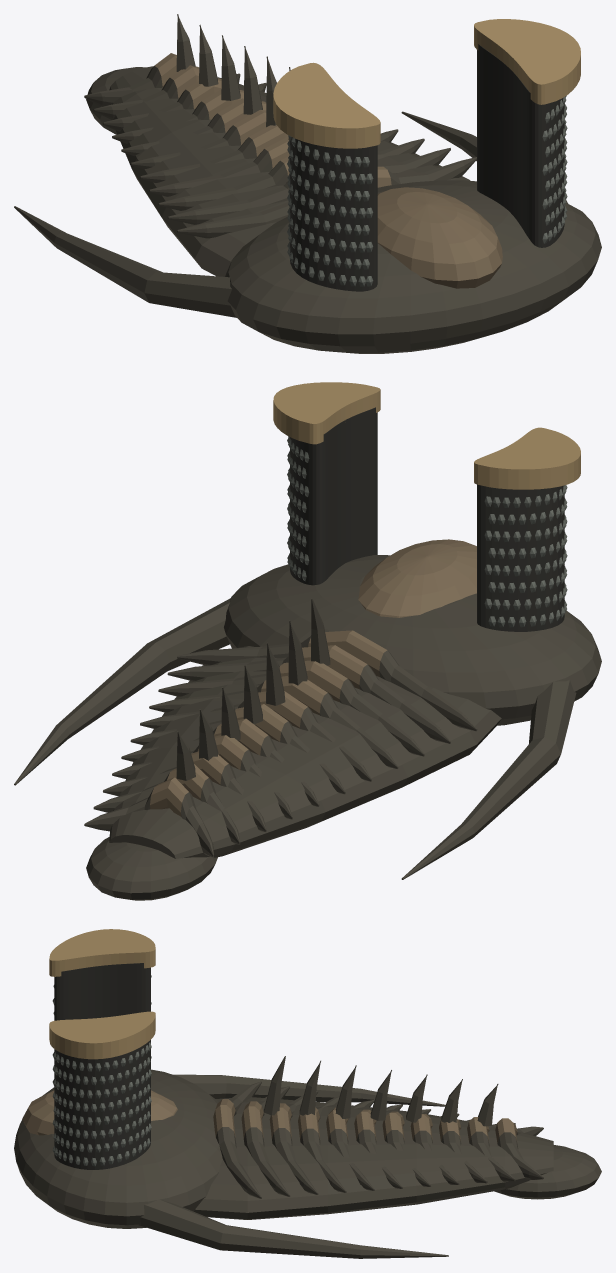
The model's file is erbenochile.glb.
3 views of the same model, one above another, from view 1: azimuth 30°, elevation 25°; view 2: azimuth 150°, elevation 25°; view 3: azimuth 270°, elevation 25° (orthographic). The views are drawn at different scales.
Visible parts, largest first — view 1: vaulted-cephalon, eleven-editable-rib-sections, continuous-vaulted-thoracic-shell, right-elongate-curved-visual-wall, central-glabella, left-elongate-curved-visual-wall, non-counted-illustrative-lens-field, left-projecting-palpebral-visor, swept-genal-spine--1, right-projecting-palpebral-visor, swept-genal-spine-1, primary-visible-axial-spine-03 (+5 smaller); view 2: continuous-vaulted-thoracic-shell, eleven-editable-rib-sections, vaulted-cephalon, right-elongate-curved-visual-wall, left-elongate-curved-visual-wall, central-glabella, swept-genal-spine-1, swept-genal-spine--1, non-counted-illustrative-lens-field, small-tapering-pygidium, left-projecting-palpebral-visor, right-projecting-palpebral-visor (+4 smaller); view 3: continuous-vaulted-thoracic-shell, vaulted-cephalon, eleven-editable-rib-sections, right-elongate-curved-visual-wall, swept-genal-spine-1, left-elongate-curved-visual-wall, non-counted-illustrative-lens-field, right-projecting-palpebral-visor, left-projecting-palpebral-visor, small-tapering-pygidium, swept-genal-spine--1, central-glabella (+7 smaller).
Part boxes in pixels (<box>): vaulted-cephalon: <box>225,180,601,353</box>; eleven-editable-rib-sections: <box>84,53,476,238</box>; continuous-vaulted-thoracic-shell: <box>109,66,470,276</box>; right-elongate-curved-visual-wall: <box>477,44,564,247</box>; central-glabella: <box>377,187,502,288</box>; left-elongate-curved-visual-wall: <box>290,137,377,291</box>; non-counted-illustrative-lens-field: <box>287,95,567,286</box>; left-projecting-palpebral-visor: <box>273,62,380,148</box>; swept-genal-spine--1: <box>14,206,236,317</box>; right-projecting-palpebral-visor: <box>474,19,580,104</box>; swept-genal-spine-1: <box>401,111,567,203</box>; primary-visible-axial-spine-03: <box>243,46,262,114</box>; continuous-vaulted-thoracic-shell: <box>109,646,501,858</box>; eleven-editable-rib-sections: <box>84,630,477,857</box>; vaulted-cephalon: <box>224,555,601,725</box>; right-elongate-curved-visual-wall: <box>290,407,377,585</box>; left-elongate-curved-visual-wall: <box>477,484,564,631</box>; central-glabella: <box>358,539,476,617</box>; swept-genal-spine-1: <box>14,598,230,785</box>; swept-genal-spine--1: <box>401,680,576,879</box>; non-counted-illustrative-lens-field: <box>287,436,567,627</box>; small-tapering-pygidium: <box>86,837,217,900</box>; left-projecting-palpebral-visor: <box>474,427,580,489</box>; right-projecting-palpebral-visor: <box>273,382,380,444</box>; continuous-vaulted-thoracic-shell: <box>193,1097,553,1219</box>; vaulted-cephalon: <box>14,1069,222,1228</box>; eleven-editable-rib-sections: <box>213,1081,543,1198</box>; right-elongate-curved-visual-wall: <box>54,1040,150,1169</box>; swept-genal-spine-1: <box>139,1199,448,1258</box>; left-elongate-curved-visual-wall: <box>54,963,150,1020</box>; non-counted-illustrative-lens-field: <box>52,975,151,1166</box>; right-projecting-palpebral-visor: <box>49,1011,155,1059</box>; left-projecting-palpebral-visor: <box>49,929,155,976</box>; small-tapering-pygidium: <box>494,1145,601,1199</box>; swept-genal-spine--1: <box>173,1074,445,1106</box>; central-glabella: <box>22,1090,177,1135</box>.
Bounding box in the file's own units: 0.0478 × 0.0289 × 0.073.
